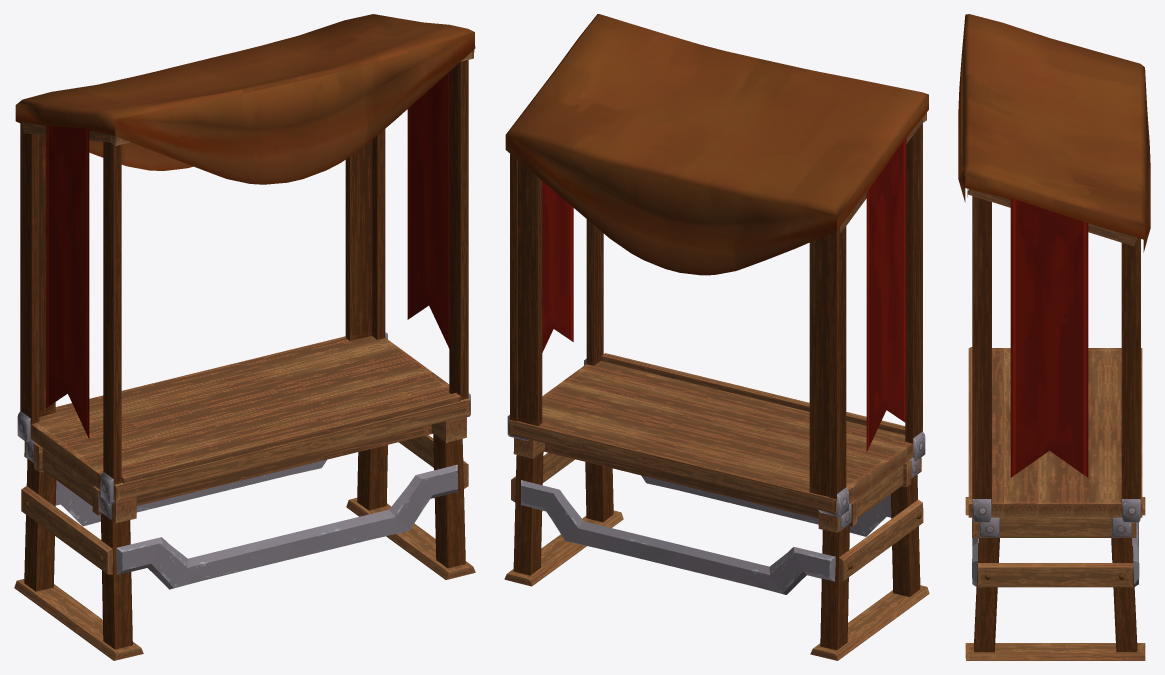
The model's file is Stall_Empty.gltf.
3 renders of one model, left to right at view 1: azimuth 30°, elevation 25°; view 2: azimuth 150°, elevation 25°; view 3: azimuth 270°, elevation 25°, orthographic. The views are drawn at different scales.
Visible parts, largest first — view 1: Stall_Empty; view 2: Stall_Empty; view 3: Stall_Empty.
Part boxes in pixels (bbox=[...]): Stall_Empty: bbox=[14, 14, 475, 660]; Stall_Empty: bbox=[504, 14, 929, 660]; Stall_Empty: bbox=[958, 14, 1150, 660].
Size of the model in its own units: 1.84 by 2.63 by 0.9323.
3 materials, 3 textured.
